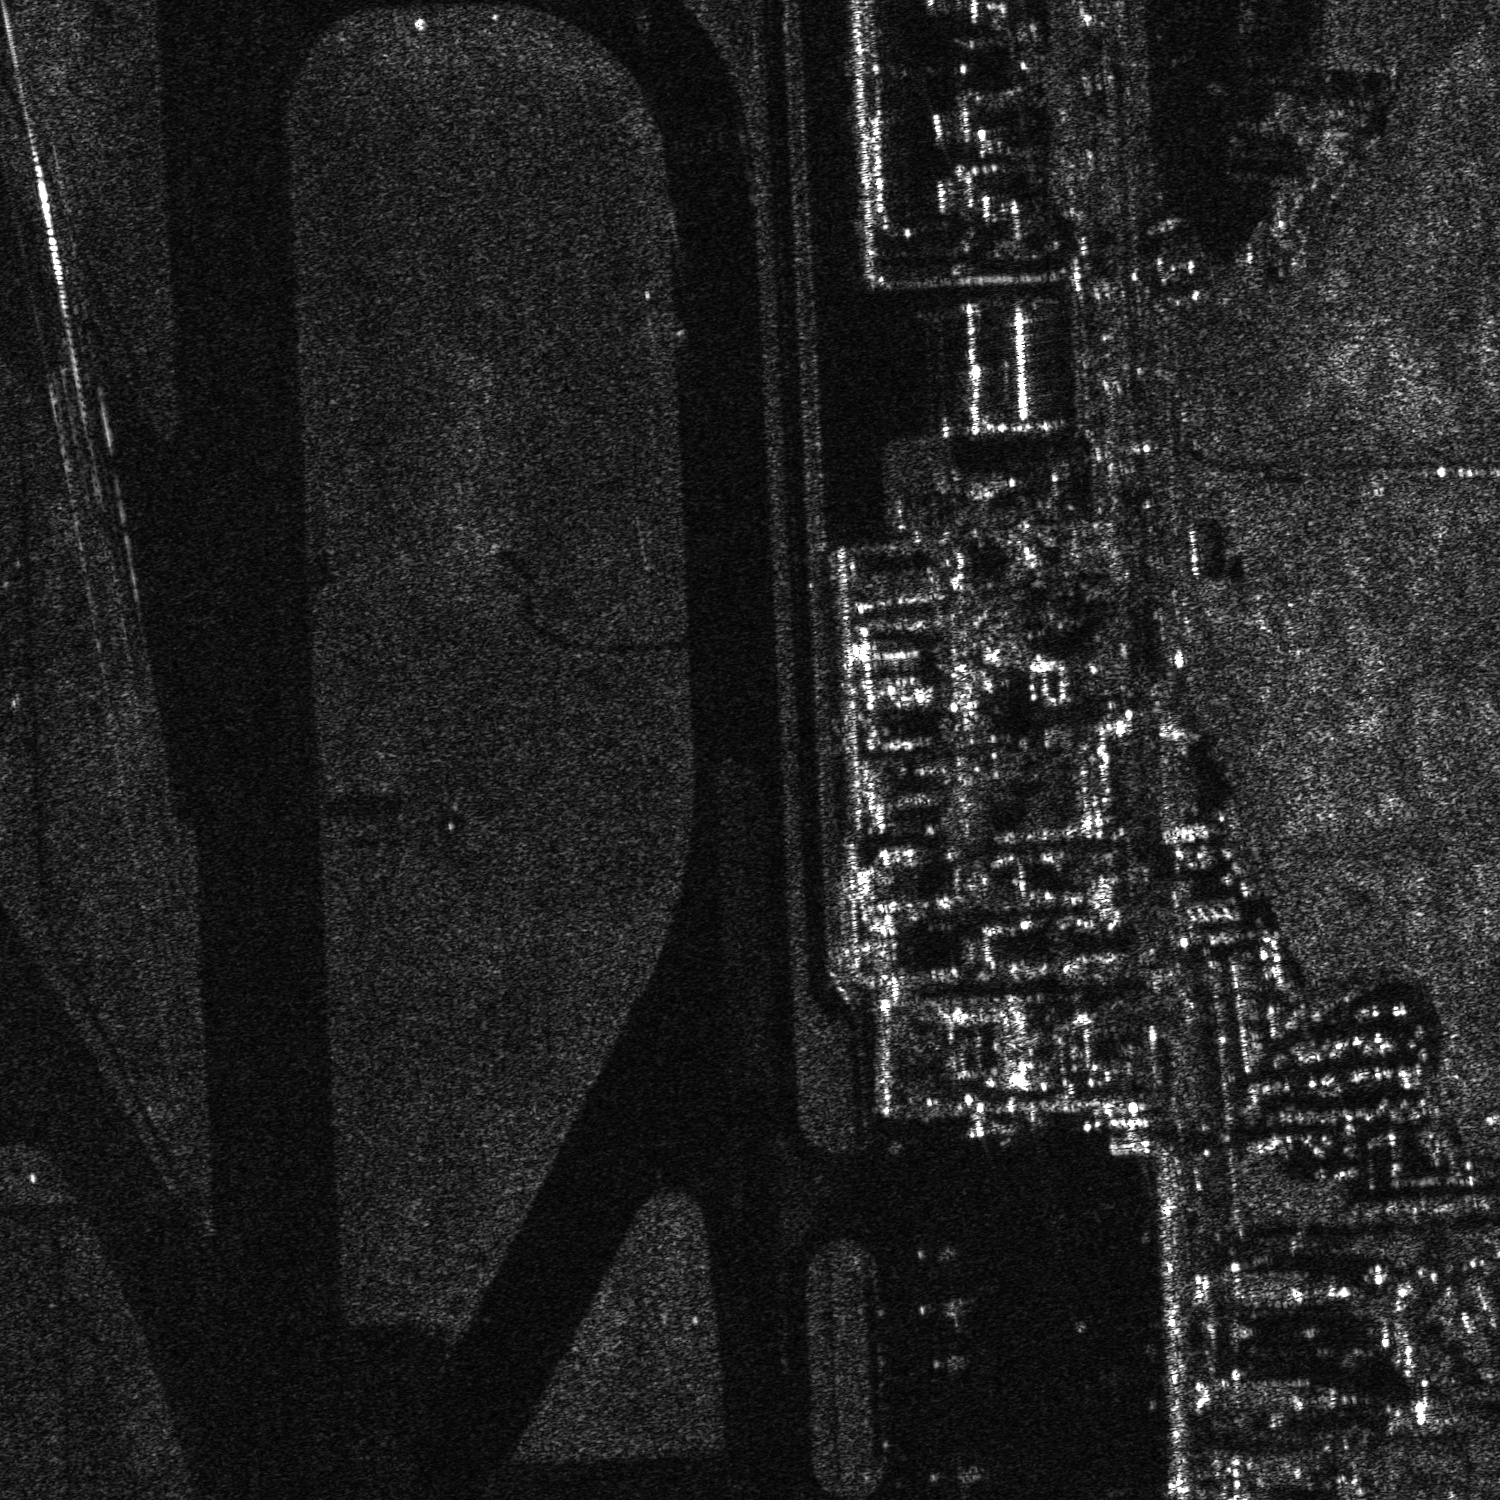ARJ21: (904, 1288, 985, 1339), (920, 1342, 978, 1383)
other: (924, 1451, 993, 1499), (912, 1238, 968, 1266)
